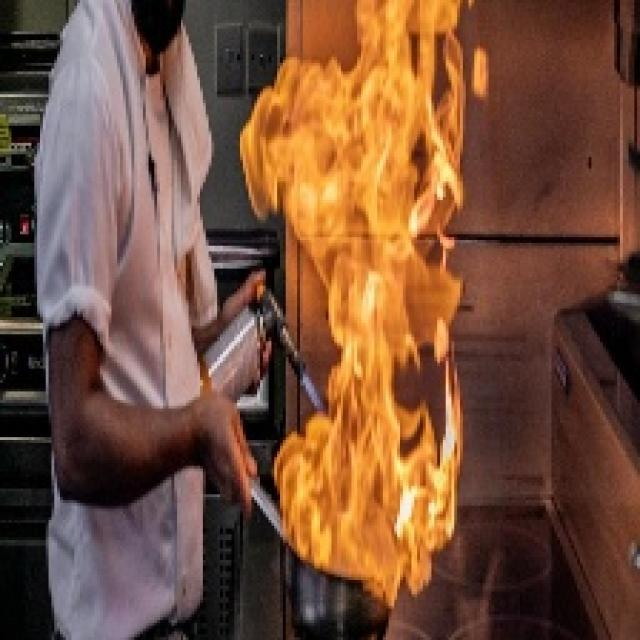Fire: (242, 4, 480, 604)
